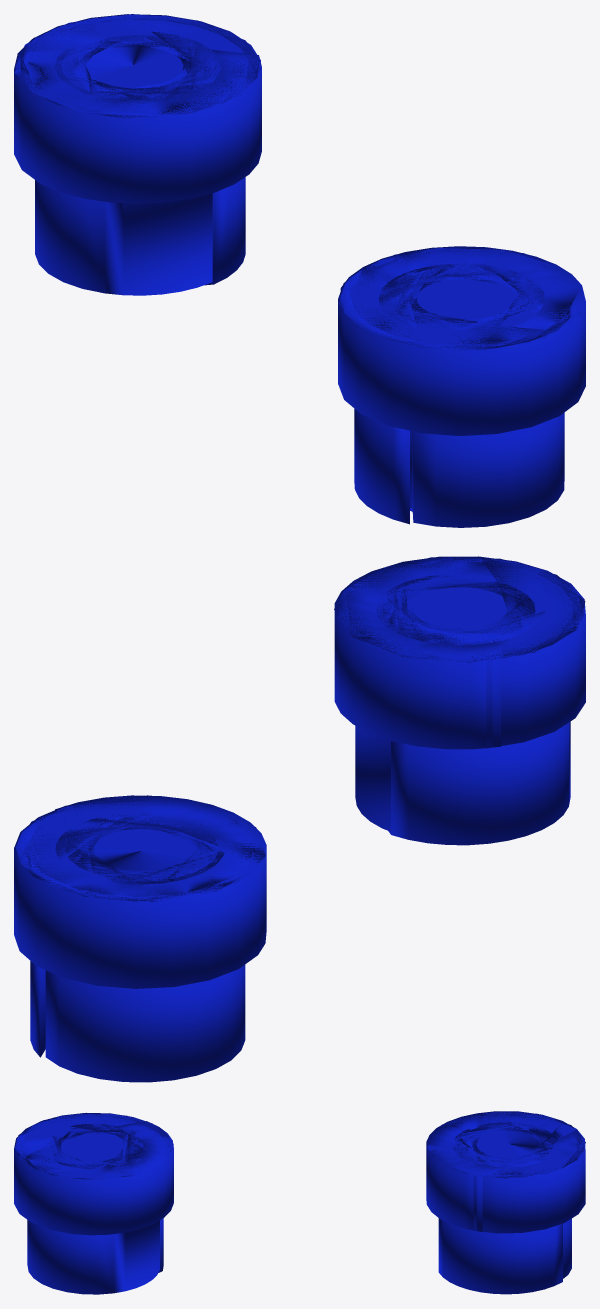
File: tuyeau_element_000017.obj
3 views of the same model, one above another, from view 1: azimuth 30°, elevation 25°; view 2: azimuth 150°, elevation 25°; view 3: azimuth 270°, elevation 25° (orthographic). The views are drawn at different scales.
Parts seen in each view (by area): view 1: tuyeau2_Cube.017, tuyeau1_Cube.014; view 2: tuyeau2_Cube.017, tuyeau1_Cube.014; view 3: tuyeau1_Cube.014, tuyeau2_Cube.017.
Part boxes in pixels (x1,y1,x2,y2): tuyeau2_Cube.017: (338,246,585,527); tuyeau1_Cube.014: (14,14,261,295); tuyeau2_Cube.017: (334,556,585,845); tuyeau1_Cube.014: (14,795,266,1082); tuyeau1_Cube.014: (426,1111,585,1294); tuyeau2_Cube.017: (14,1112,173,1294).
Size of the model in its own units: 3595 by 2917 by 12597.
